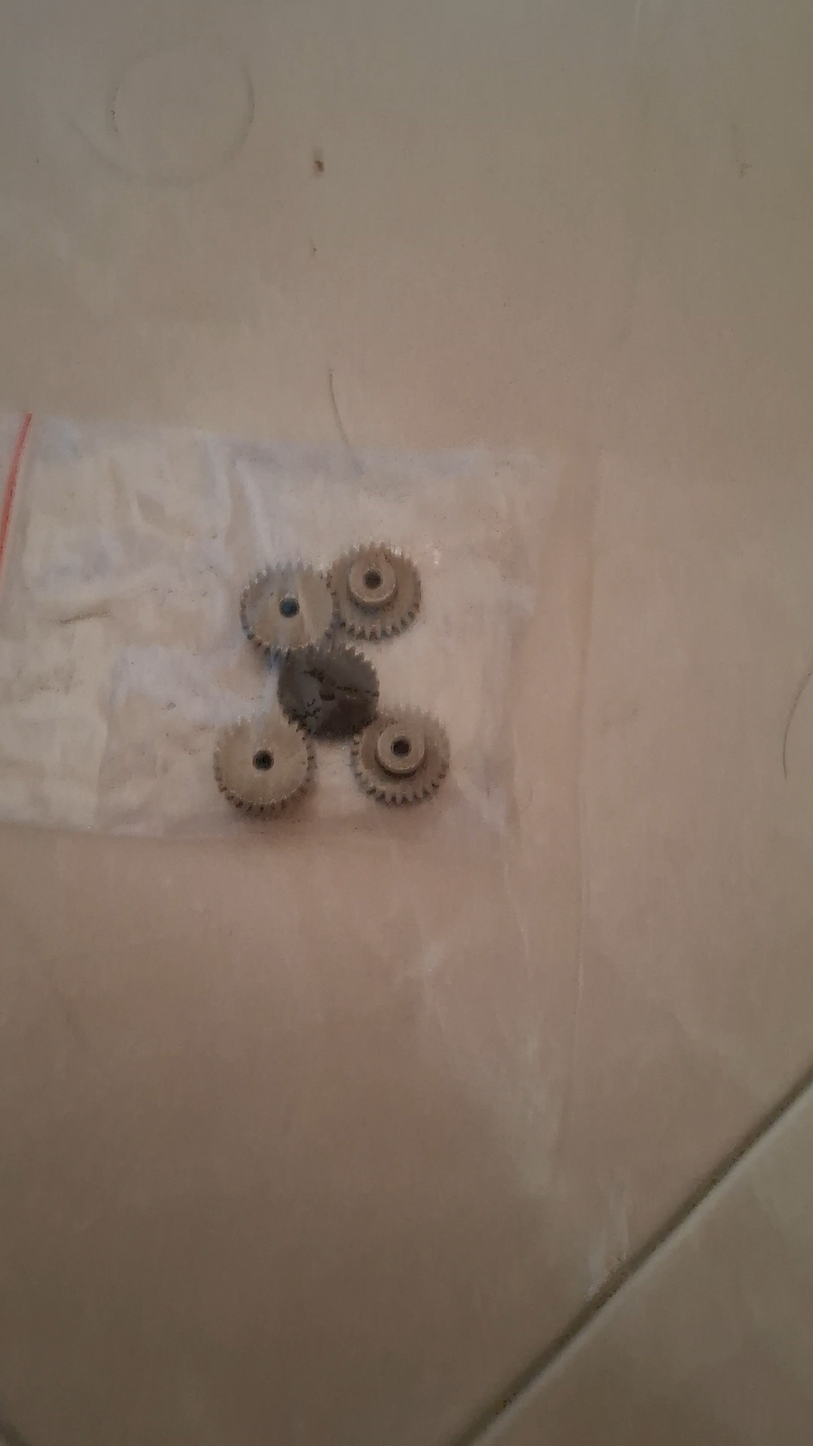spur gear: (214, 715, 314, 817), (278, 640, 378, 738), (352, 708, 449, 803), (240, 563, 333, 658), (329, 544, 420, 638)
